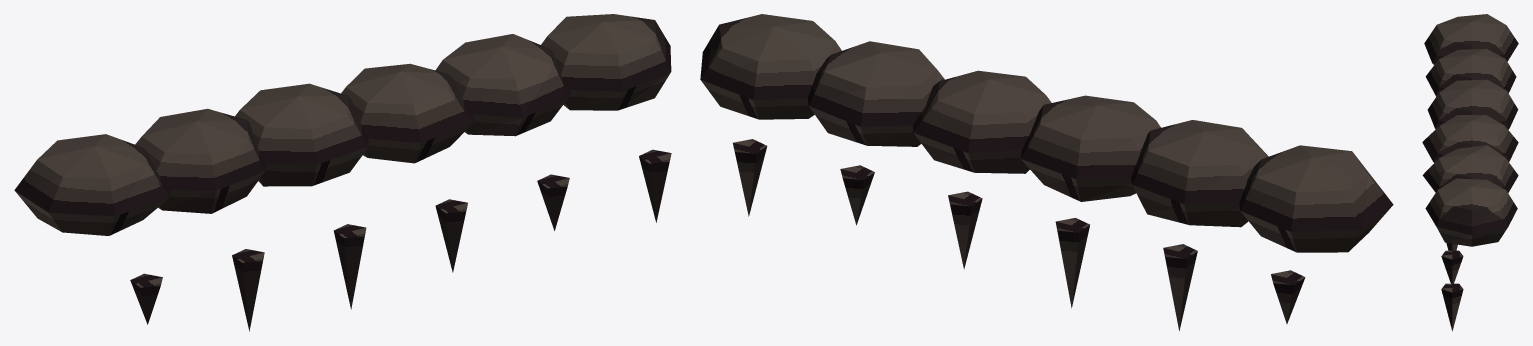
File: vh_ceiling_lip.glb
The picture shows the model from 3 angles, left to right: view 1: azimuth 30°, elevation 25°; view 2: azimuth 150°, elevation 25°; view 3: azimuth 270°, elevation 25°; orthographic projection. The views are drawn at different scales.
Visible parts, largest first — view 1: vh_ceiling_lip; view 2: vh_ceiling_lip; view 3: vh_ceiling_lip.
Boxes of the visible parts, bbox=[...] form: vh_ceiling_lip: bbox=[14, 14, 671, 331]; vh_ceiling_lip: bbox=[700, 14, 1393, 330]; vh_ceiling_lip: bbox=[1422, 14, 1518, 331].
Bounding box in the file's own units: 5.03 × 1.6 × 0.9901.
Materials: 1 (1 with a texture image).
